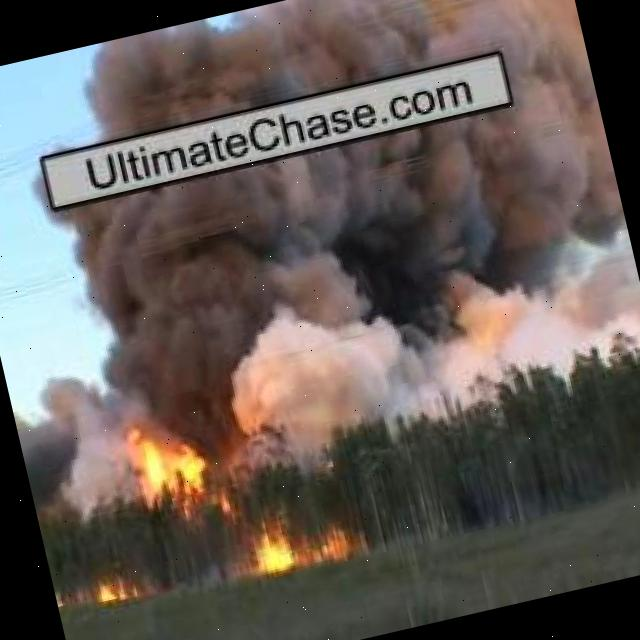fire: (115, 401, 221, 526), (252, 522, 298, 571), (304, 518, 350, 565), (91, 570, 132, 609)
